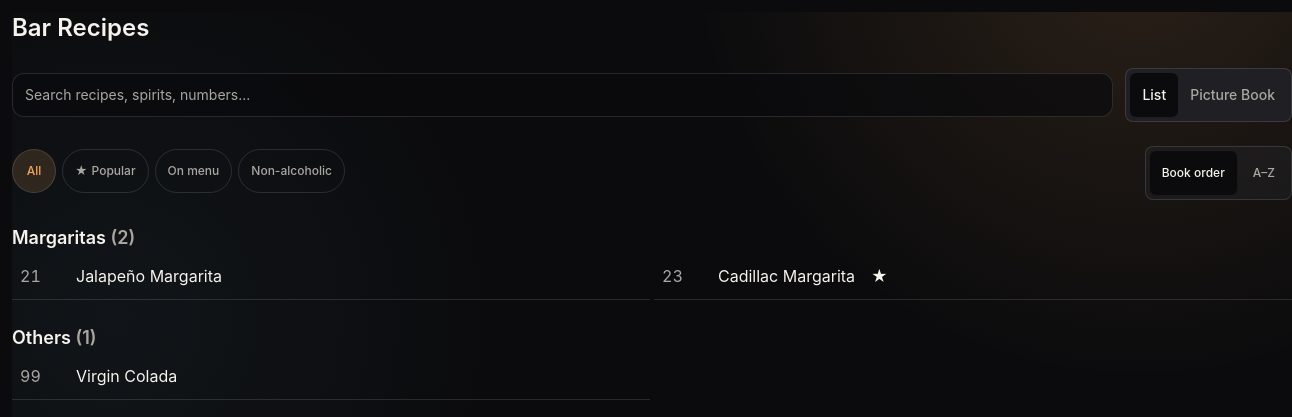
Test: Recipes browsing: view toggle, filters, and sort › filters by Popular, On menu, and Non-alcoholic with aria-pressed states
Expected: the text "Cadillac Margarita" is shown, [718,264,855,288]
Note: Filter Popular
Click the button "★ Popular": point(105, 171) [62,149,148,193]
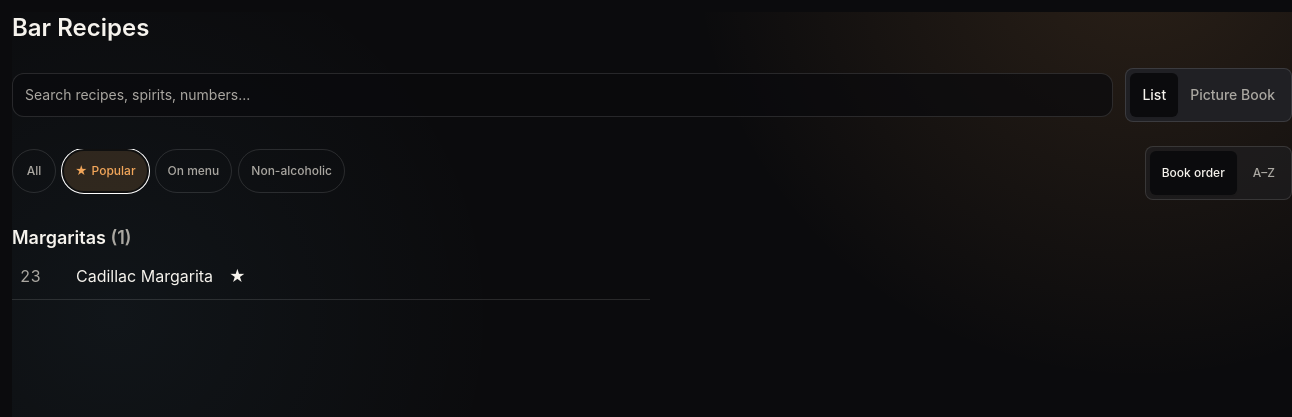
Expected: the text "Cadillac Margarita" is shown, [76,264,213,288]
Expected: the link "Jalapeño Margarita" is gone
Expected: the link "Virgin Colada" is gone
Note: Filter On menu
Click the button "On menu": point(193, 171) [154,149,232,193]
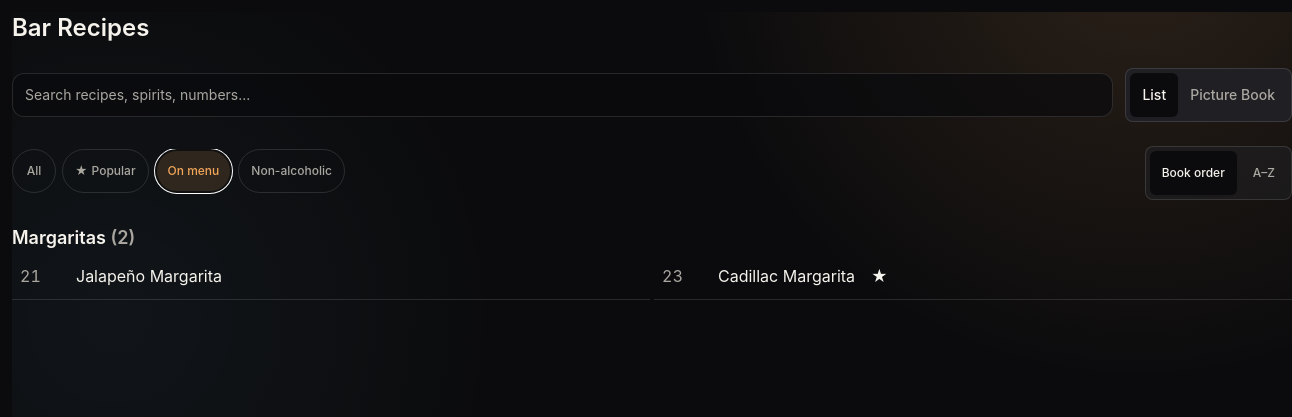
Expected: the text "Cadillac Margarita" is shown, [718,264,855,288]
Expected: the text "Jalapeño Margarita" is shown, [76,264,222,288]
Note: Filter Non-alcoholic
Click the button "Non-alcoholic": point(292, 171) [238,149,345,193]
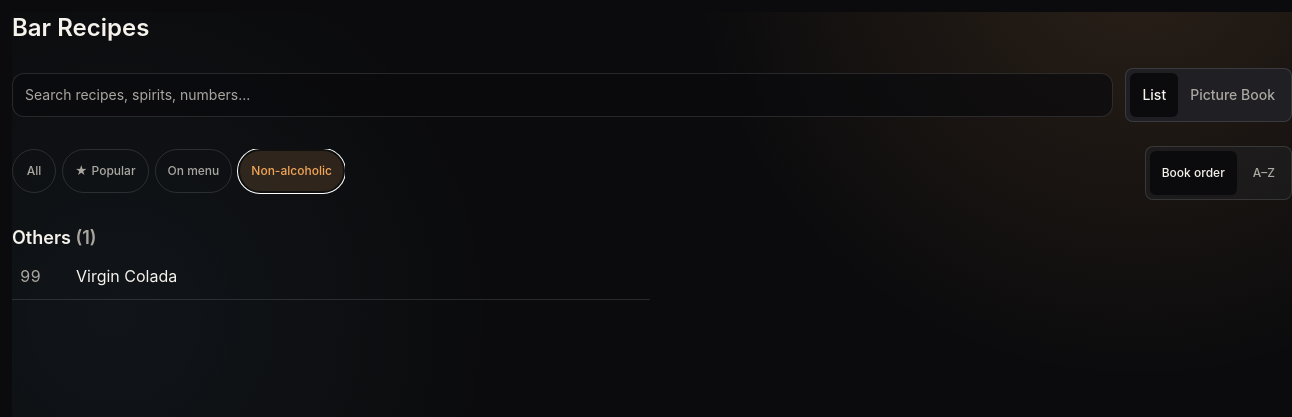
Expected: the text "Virgin Colada" is shown, [76,264,177,288]
Expected: the link "Cadillac Margarita" is gone
Expected: the link "Jalapeño Margarita" is gone
Note: Back to All
Click the button "All": point(34, 171) [12,149,56,193]
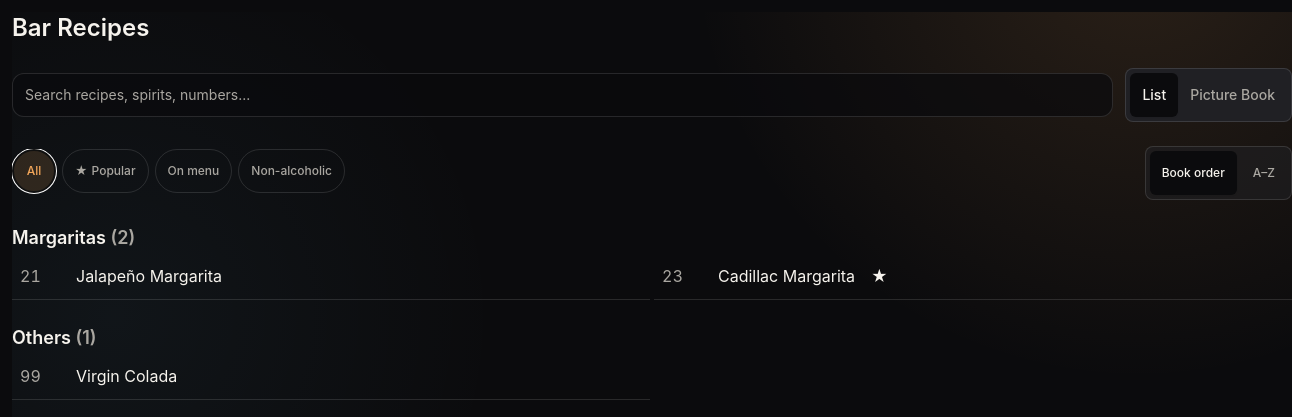
Expected: the text "Virgin Colada" is shown, [76,364,177,388]
Expected: the text "Cadillac Margarita" is shown, [718,264,855,288]
Expected: the text "Jalapeño Margarita" is shown, [76,264,222,288]
